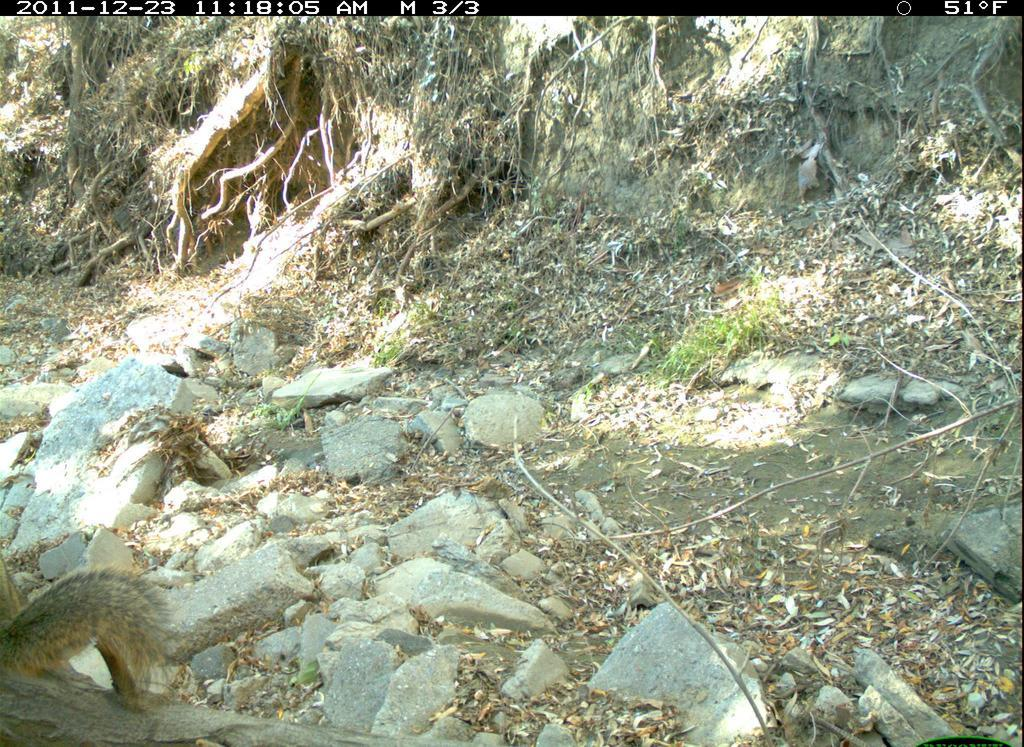squirrel: (13, 541, 191, 747)
